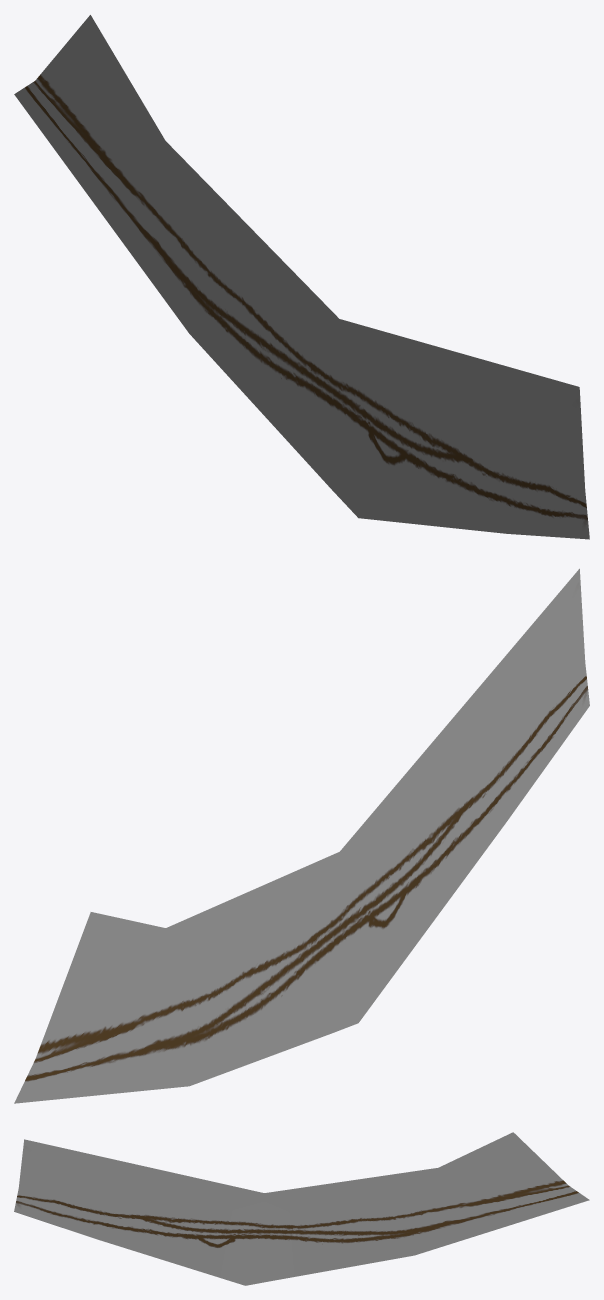
File: SM_Rope_A04.fbx
The picture shows the model from 3 angles, top to bottom: view 1: azimuth 30°, elevation 25°; view 2: azimuth 150°, elevation 25°; view 3: azimuth 270°, elevation 25°; orthographic projection. The views are drawn at different scales.
Visible parts, largest first — view 1: SM_Rope_A04_LOD0; view 2: SM_Rope_A04_LOD0; view 3: SM_Rope_A04_LOD0.
Boxes of the visible parts, x1=… form: SM_Rope_A04_LOD0: x1=14, y1=15, x2=589, y2=539; SM_Rope_A04_LOD0: x1=14, y1=568, x2=589, y2=1103; SM_Rope_A04_LOD0: x1=14, y1=1132, x2=589, y2=1285.
Size of the model in its own units: 0.9433 by 1354 by 399.
1 material, 1 textured.
